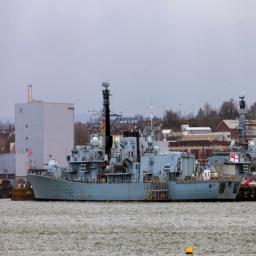Fragata: (25, 85, 245, 206)
